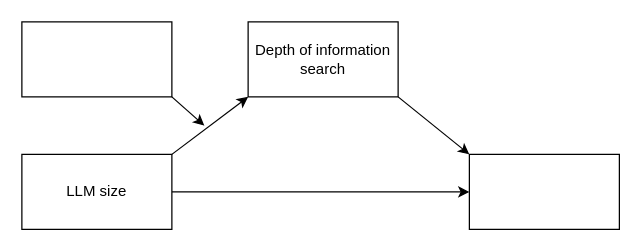
Some shapes in this 641 by 251 pixel diagram are drawn without their labels. Here are the shapes that lost their labels. From the top down, the box of each, then its label:
(21, 21, 172, 97): Resource constraints
(468, 153, 619, 229): Optimal decisions
